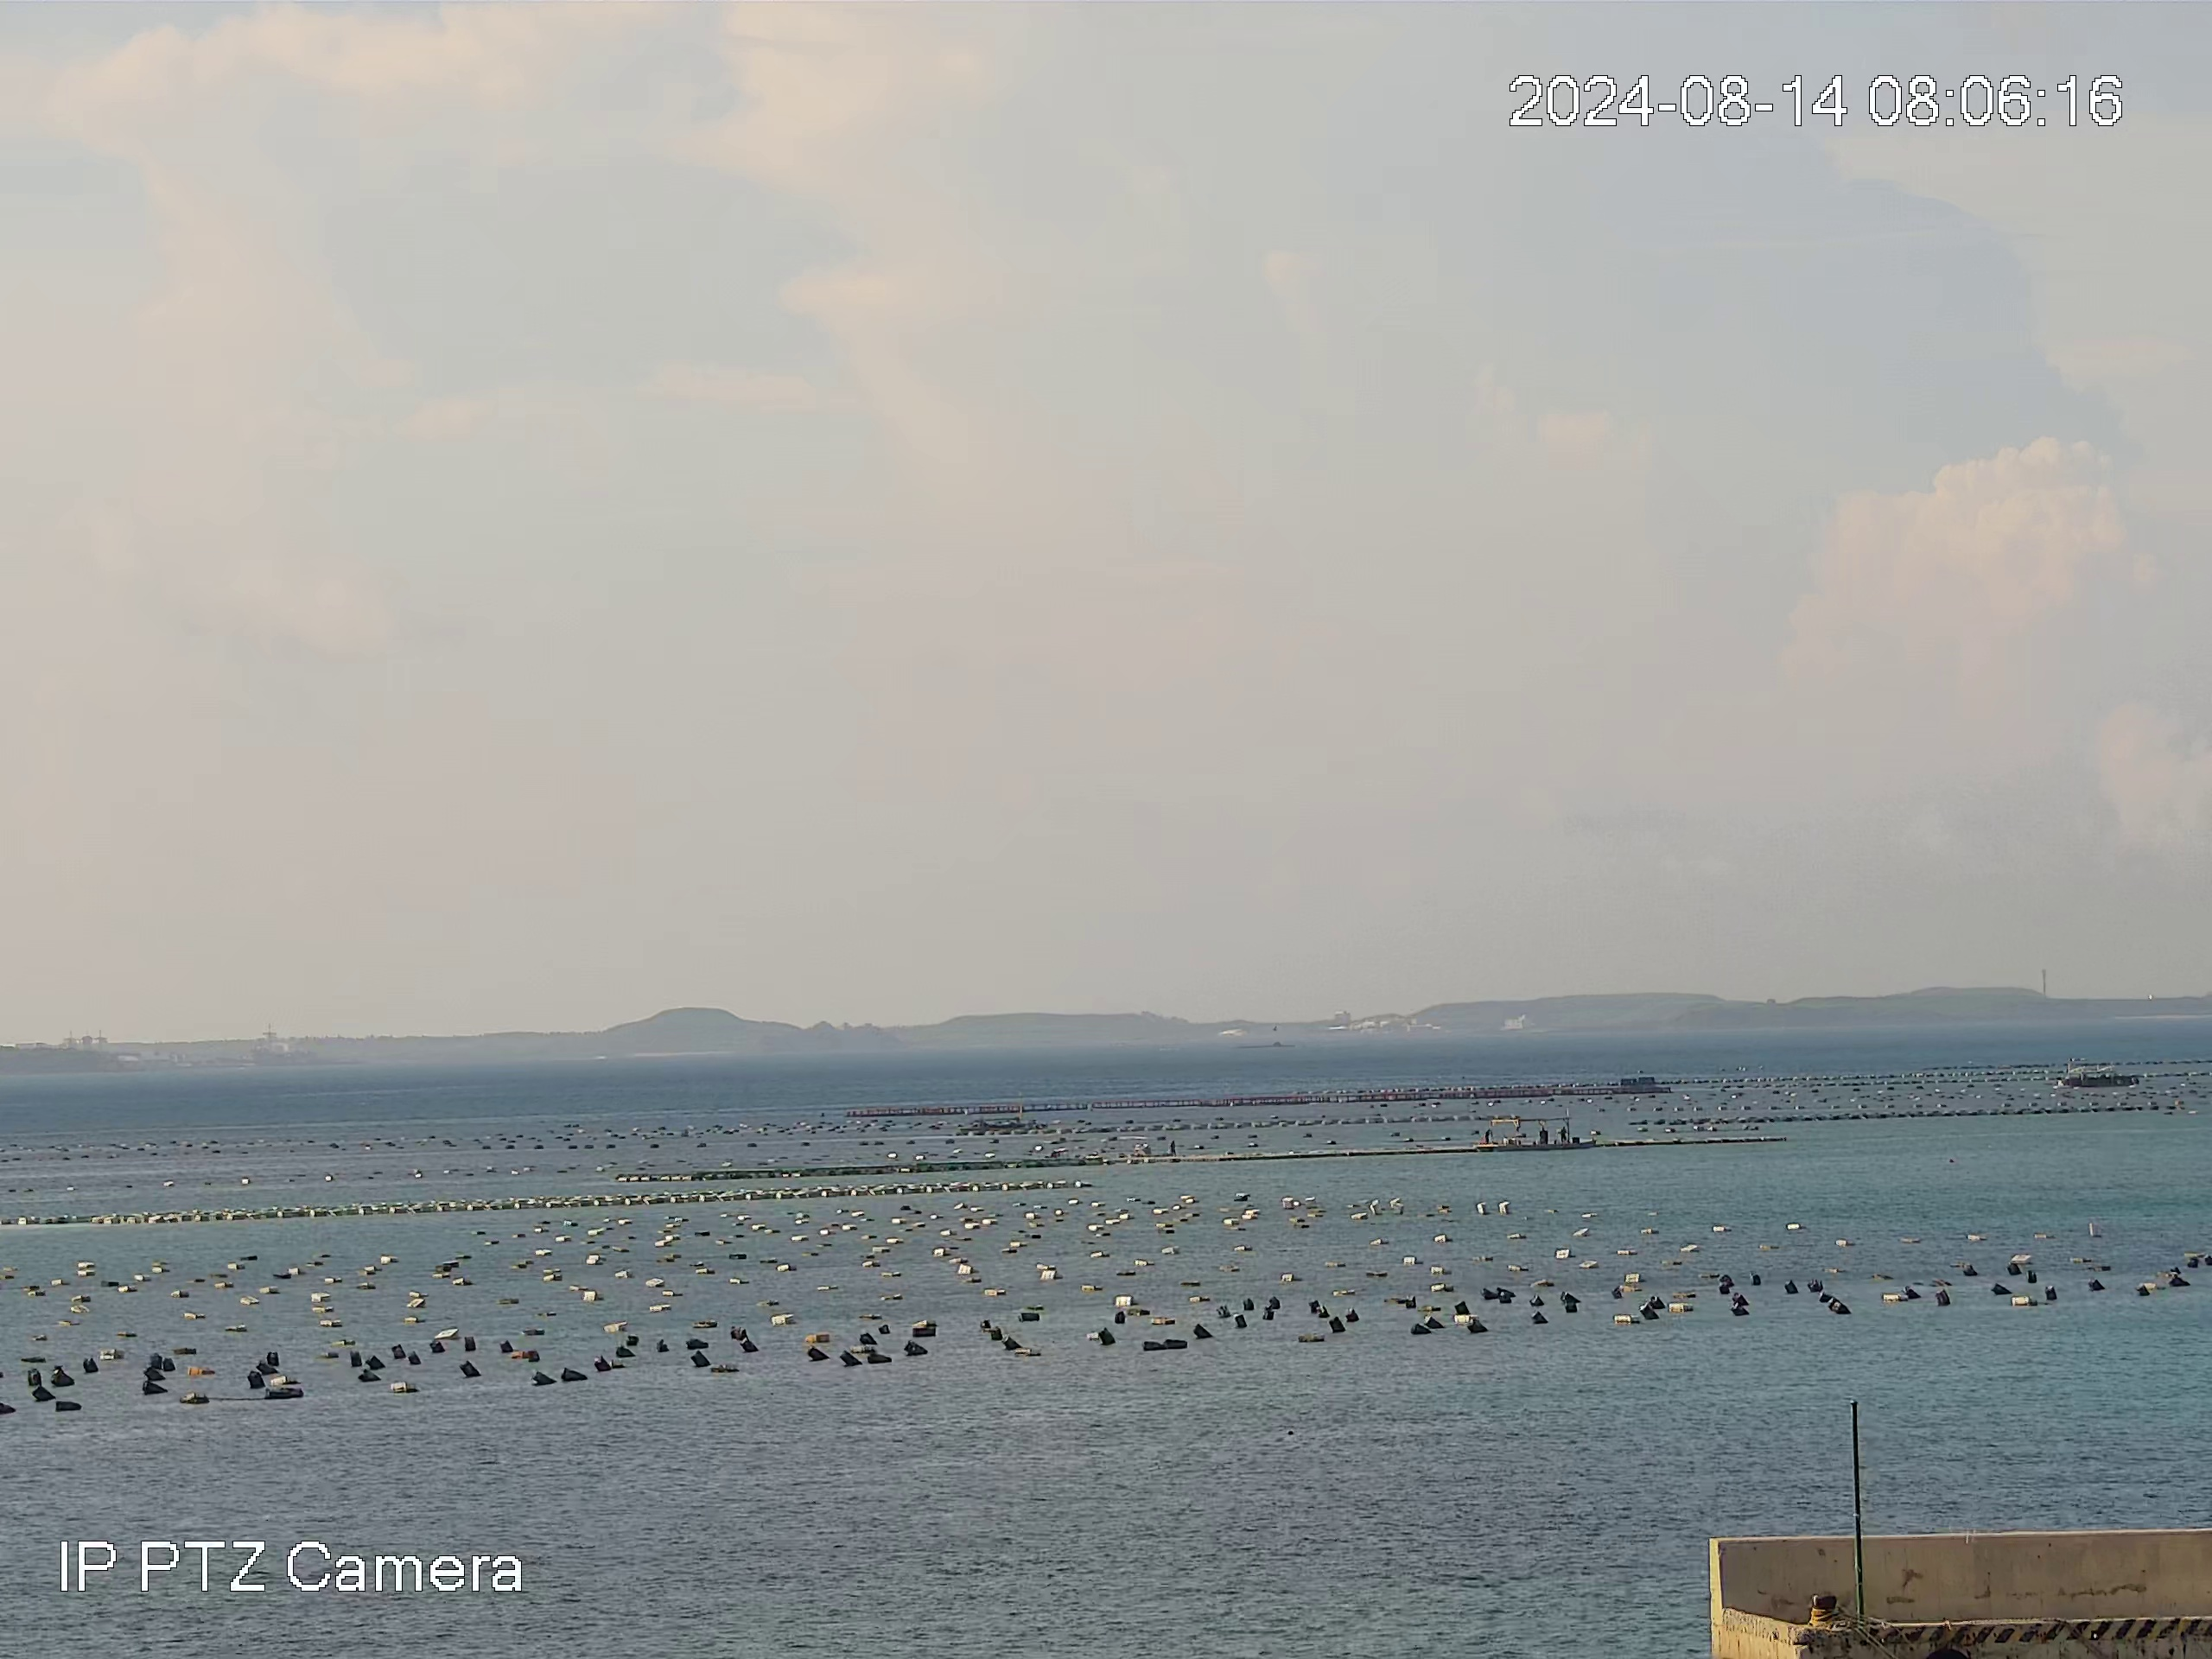boat: (1475, 1117, 1595, 1150), (2066, 1060, 2141, 1089)
